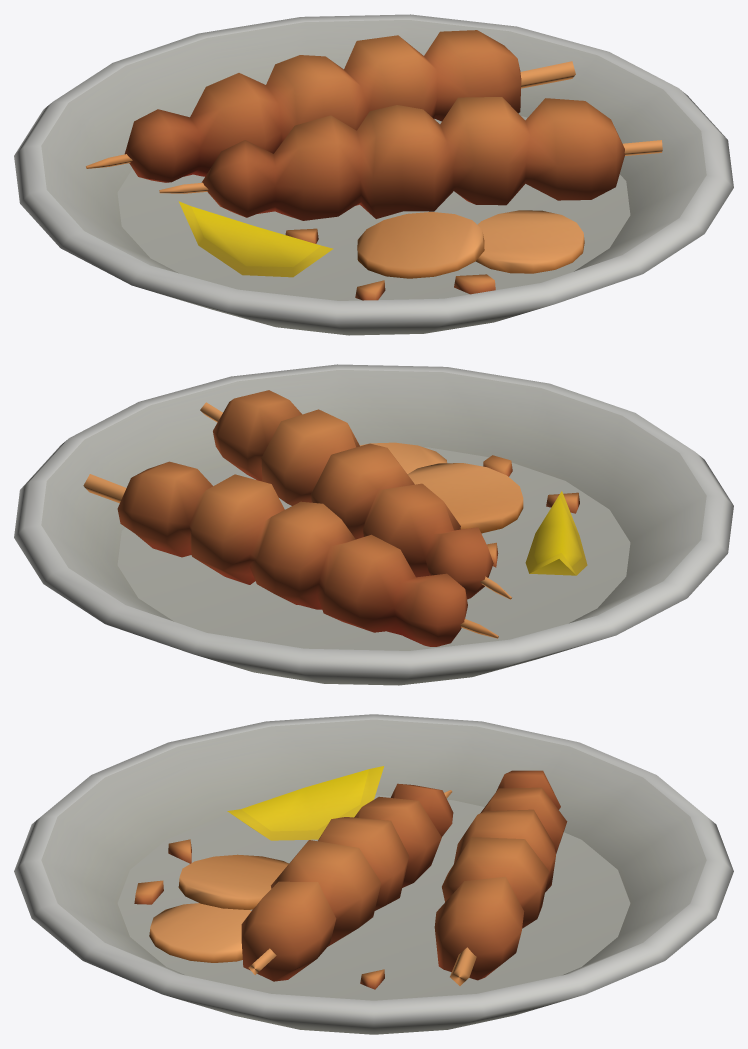
Rendered from kebab.glb.
The picture shows the model from 3 angles, top to bottom: view 1: azimuth 30°, elevation 25°; view 2: azimuth 150°, elevation 25°; view 3: azimuth 270°, elevation 25°; orthographic projection.
Parts seen in each view (by area): view 1: SM_Dish_A.017, SM_Food_Meat_01; view 2: SM_Dish_A.017, SM_Food_Meat_01; view 3: SM_Dish_A.017, SM_Food_Meat_01.
Part boxes in pixels (<box>): SM_Dish_A.017: <box>14,14,733,335</box>; SM_Food_Meat_01: <box>86,30,662,300</box>; SM_Dish_A.017: <box>14,364,733,685</box>; SM_Food_Meat_01: <box>83,390,587,646</box>; SM_Dish_A.017: <box>14,714,733,1034</box>; SM_Food_Meat_01: <box>134,766,567,989</box>.
Bounding box in the file's own units: 0.7473 × 0.1406 × 0.7473.
1 material, 1 textured.
